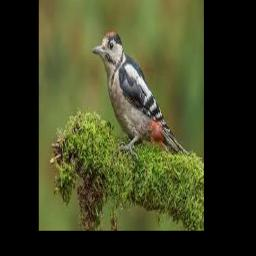Woodpecker: (92, 31, 188, 156)
